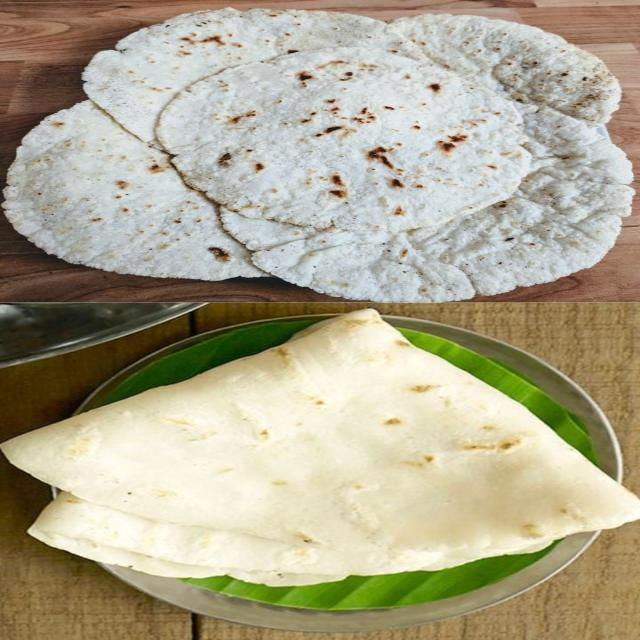ROTI: (0, 309, 639, 584), (221, 108, 631, 302), (156, 43, 530, 236), (2, 100, 268, 280), (84, 8, 384, 144), (395, 16, 620, 126)
